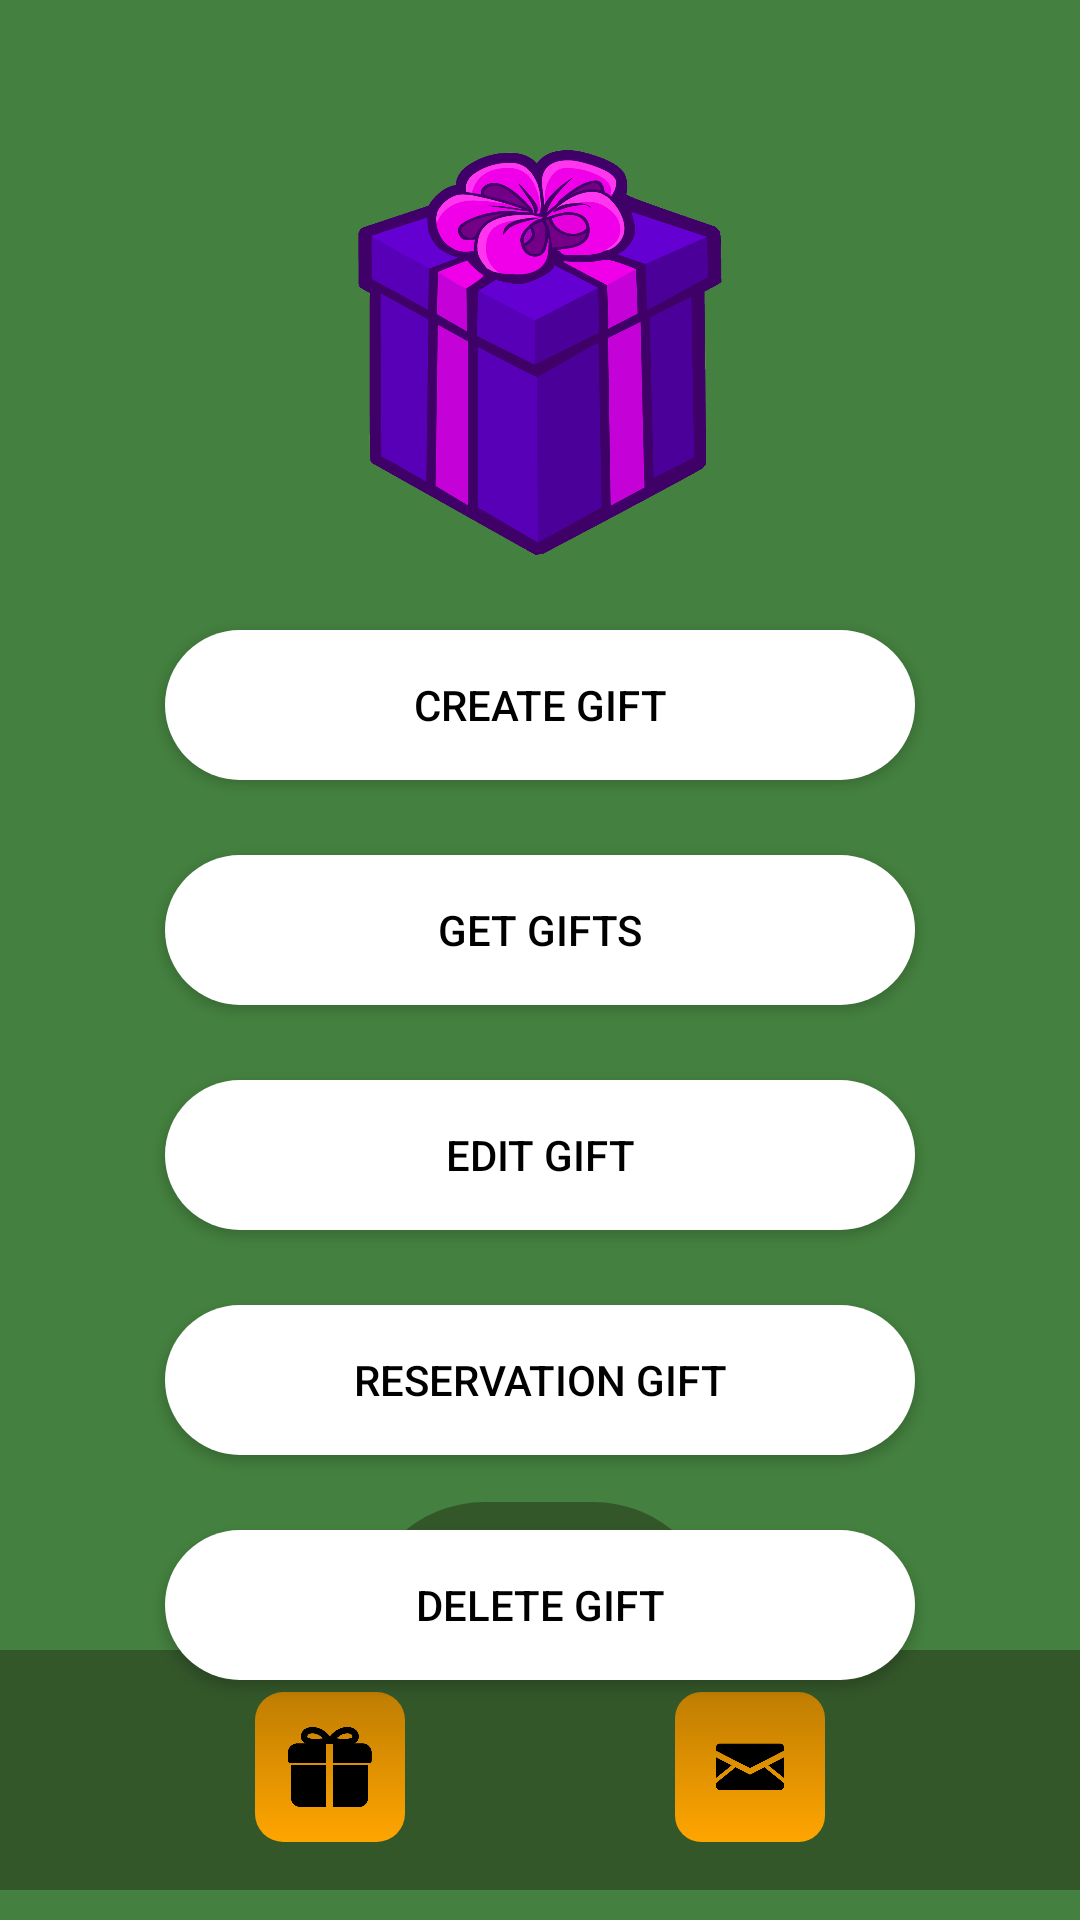

Icons on this 1080px x 1920px Android screen, each with the point to tap as (x=x, y=y):
bottom menu gift: (x=330, y=1767)
bottom menu mail: (x=750, y=1767)
